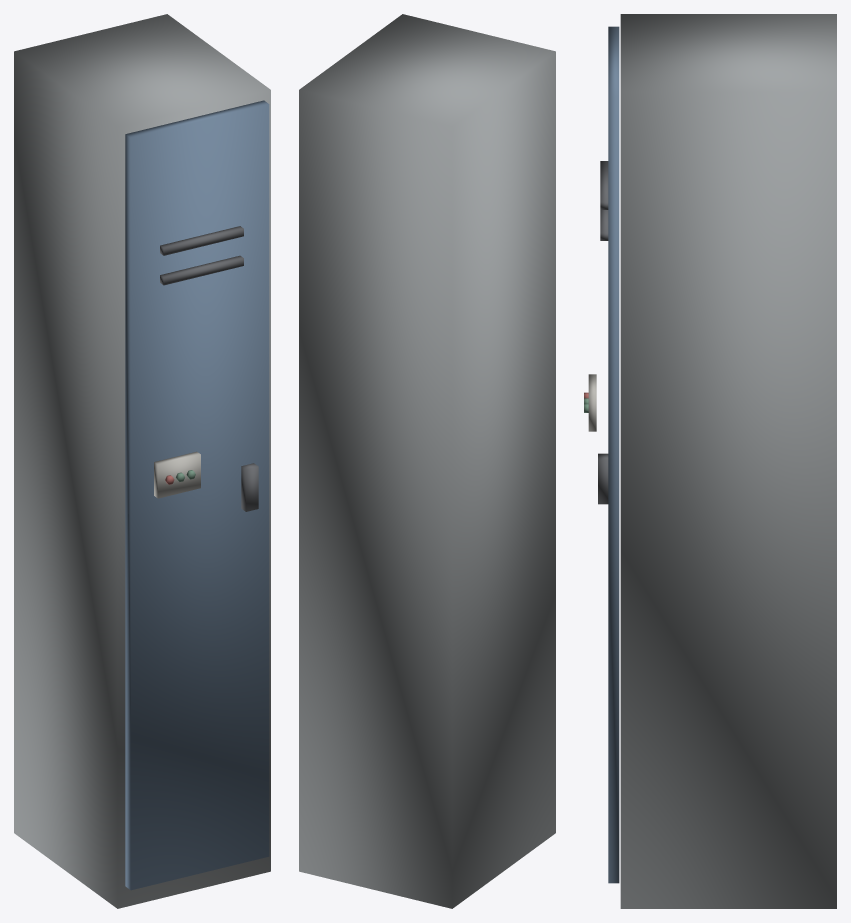
Rendered from single_locker__compact.glb.
3 views of the same model, side by side, from view 1: azimuth 30°, elevation 25°; view 2: azimuth 150°, elevation 25°; view 3: azimuth 270°, elevation 25° (orthographic). The views are drawn at different scales.
Visible parts, largest first — view 1: world; view 2: world; view 3: world.
Part boxes in pixels (x1,y1,x2,y2): world: [14, 14, 270, 908]; world: [299, 14, 555, 908]; world: [584, 14, 836, 908].
Size of the model in its own units: 0.3528 by 1.72 by 0.4825.
